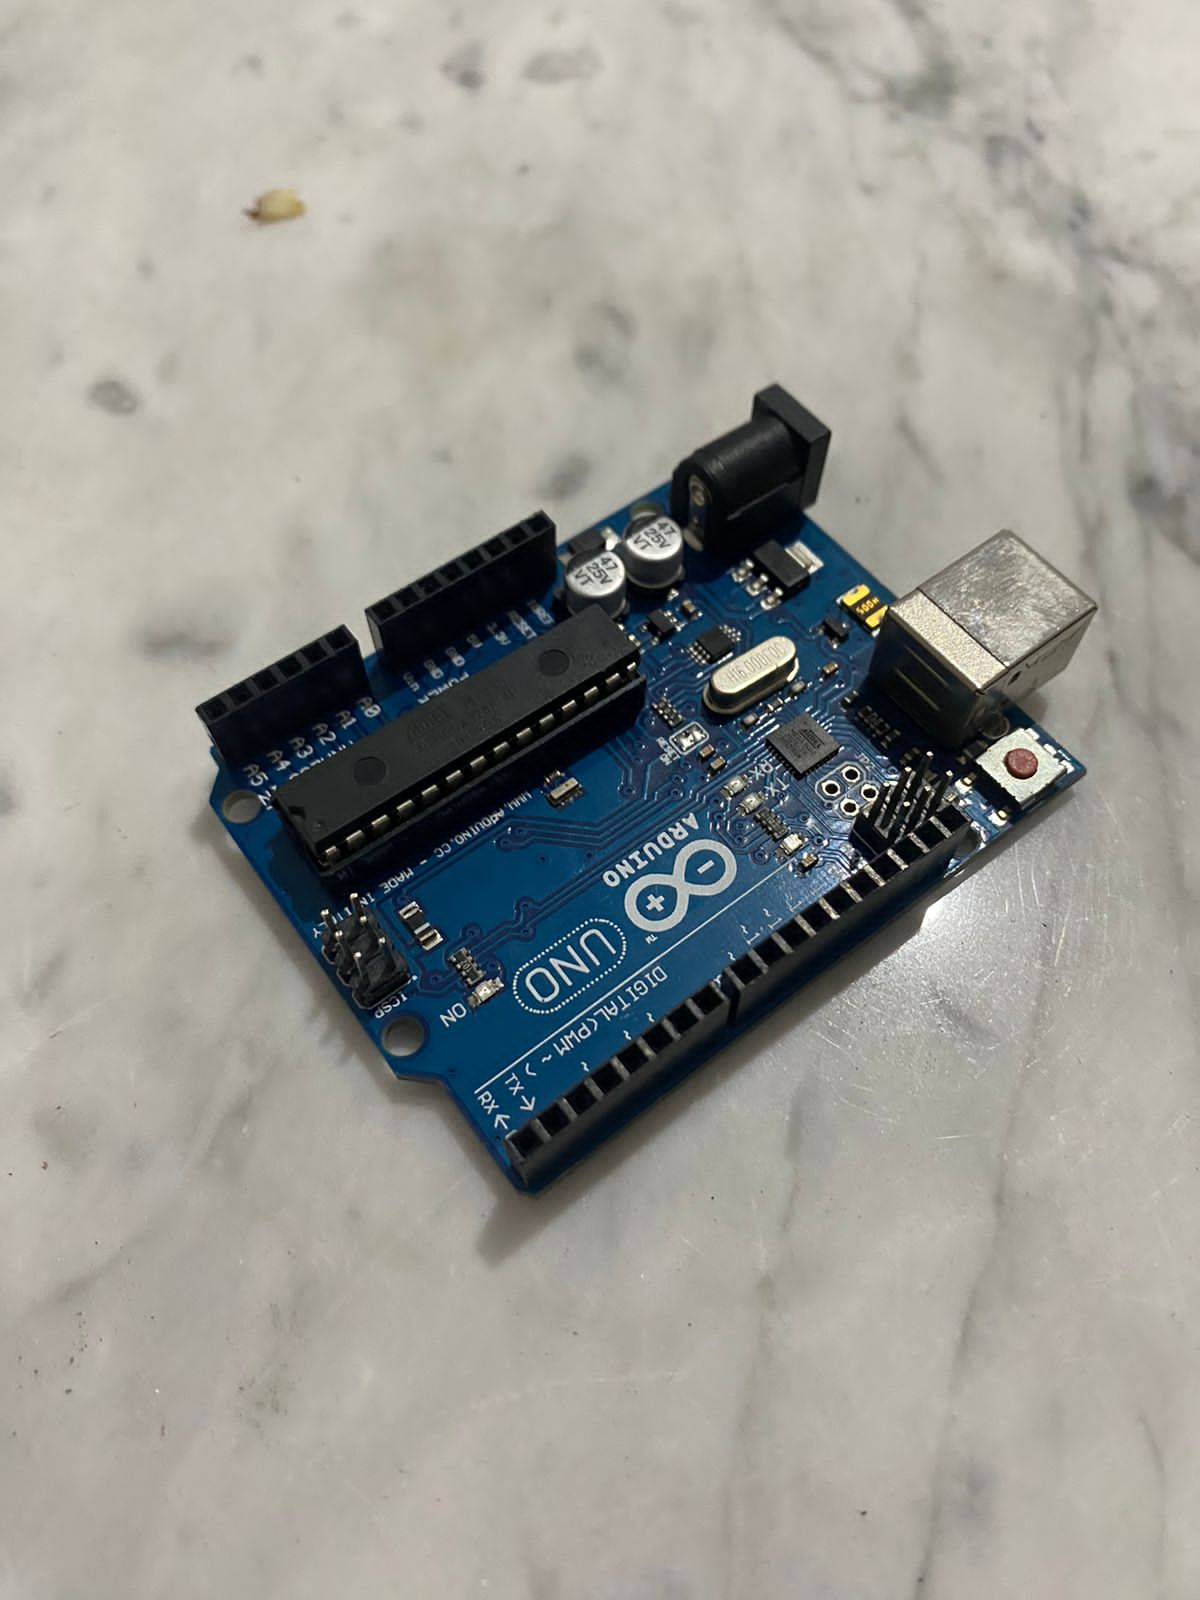arduino-uno: (197, 374, 1090, 1189)
